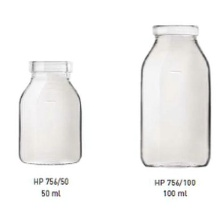bottle: (134, 16, 213, 176), (14, 54, 89, 170)
